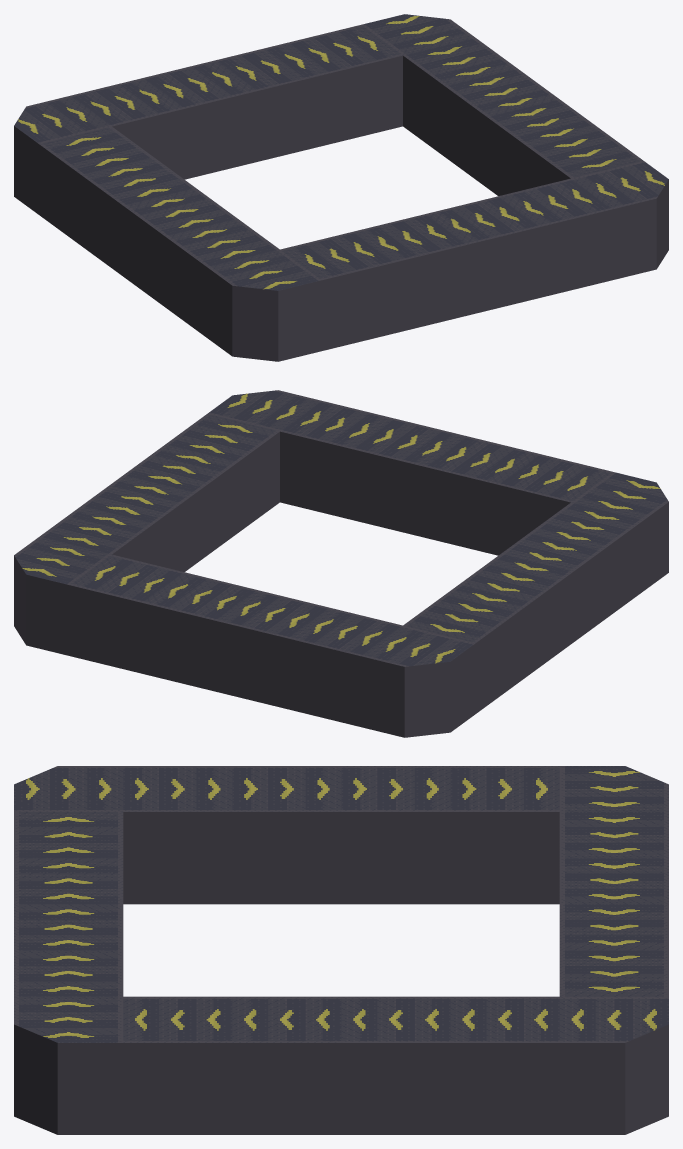
Rendered from ConveyorBelt.fbx.
The picture shows the model from 3 angles, top to bottom: view 1: azimuth 30°, elevation 25°; view 2: azimuth 150°, elevation 25°; view 3: azimuth 270°, elevation 25°; orthographic projection. The views are drawn at different scales.
Visible parts, largest first — view 1: Plane.001; view 2: Plane.001; view 3: Plane.001.
Part boxes in pixels (x1=…): Plane.001: x1=14, y1=14, x2=668, y2=361; Plane.001: x1=14, y1=390, x2=668, y2=737; Plane.001: x1=14, y1=766, x2=668, y2=1134.
Size of the model in its own units: 104 by 16.12 by 104.
Materials: 2 (2 with a texture image).
